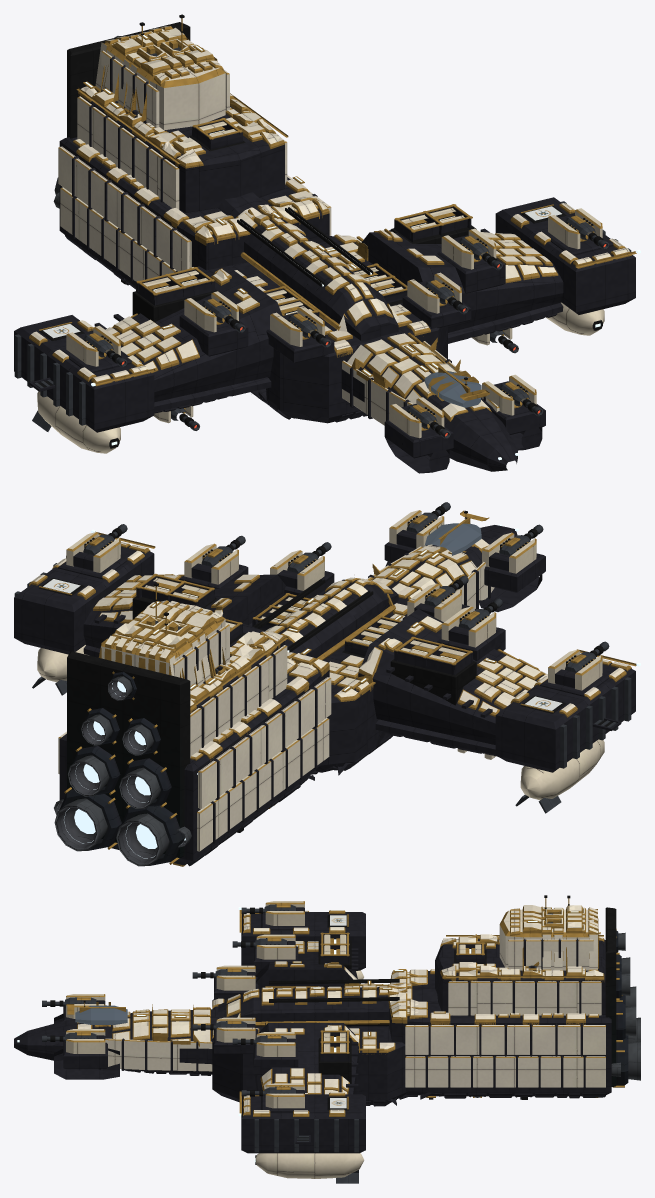
The model's file is europa-schiff6.glb.
The picture shows the model from 3 angles, top to bottom: view 1: azimuth 30°, elevation 25°; view 2: azimuth 150°, elevation 25°; view 3: azimuth 270°, elevation 25°; orthographic projection. The views are drawn at different scales.
Parts seen in each view (by area): view 1: Hull_LOD0; view 2: Hull_LOD0, EngineLight, Laser_04, Laser_01, Laser_05, Laser_02, Laser_03, Laser_07, Laser_08, Laser_06; view 3: Hull_LOD0.
Boxes of the visible parts, bbox=[...] form: Hull_LOD0: bbox=[14, 14, 640, 473]; Hull_LOD0: bbox=[14, 510, 640, 866]; EngineLight: bbox=[64, 681, 185, 858]; Laser_04: bbox=[424, 575, 468, 606]; Laser_01: bbox=[406, 502, 450, 533]; Laser_05: bbox=[201, 535, 245, 566]; Laser_02: bbox=[499, 524, 543, 555]; Laser_03: bbox=[287, 542, 331, 573]; Laser_07: bbox=[83, 524, 127, 555]; Laser_08: bbox=[565, 641, 609, 672]; Laser_06: bbox=[458, 598, 502, 629]; Hull_LOD0: bbox=[14, 895, 640, 1183].
Bounding box in the file's own units: 67.9 × 28.11 × 81.6.
Materials: 6 (4 with a texture image).
